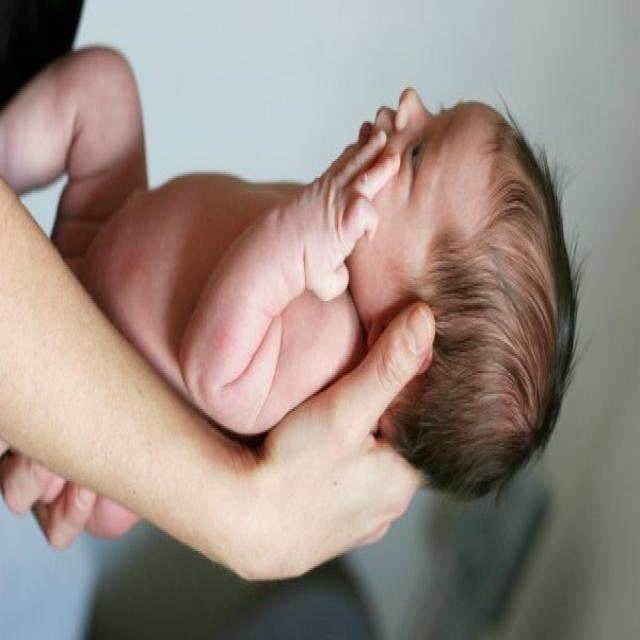child: (0, 39, 583, 494)
